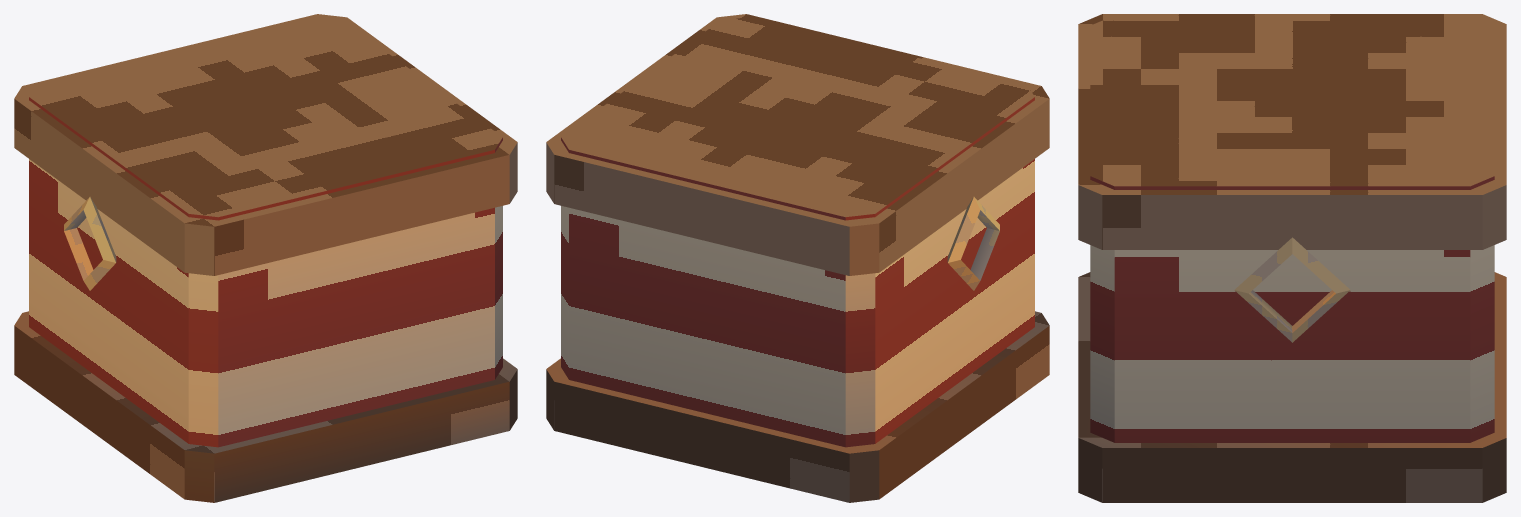
Rendered from wprop.crate__powder.glb.
The picture shows the model from 3 angles, left to right: view 1: azimuth 30°, elevation 25°; view 2: azimuth 150°, elevation 25°; view 3: azimuth 270°, elevation 25°; orthographic projection. The views are drawn at different scales.
Visible parts, largest first — view 1: kit_box, kit_edges, kit_handles; view 2: kit_box, kit_edges, kit_handles; view 3: kit_box, kit_edges, kit_handles.
Boxes of the visible parts, box(x1,y1,x2,y2) form: kit_box: box(29, 17, 502, 447); kit_edges: box(14, 14, 517, 502); kit_handles: box(64, 197, 116, 290); kit_box: box(561, 17, 1034, 447); kit_edges: box(546, 14, 1049, 502); kit_handles: box(947, 197, 999, 290); kit_box: box(1090, 15, 1494, 442); kit_edges: box(1078, 14, 1506, 502); kit_handles: box(1234, 237, 1350, 342).
Size of the model in its own units: 0.5808 by 0.425 by 0.53.
Materials: 3 (3 with a texture image).
